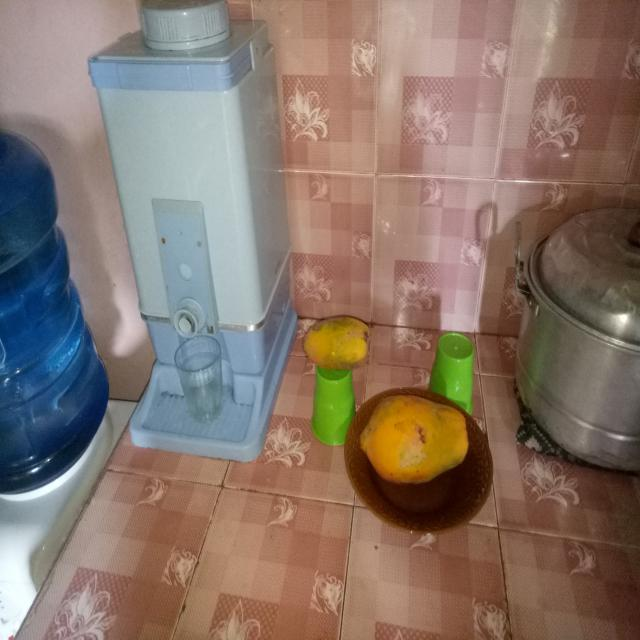Pepaya rippen: (359, 395, 477, 484), (297, 306, 381, 375)
